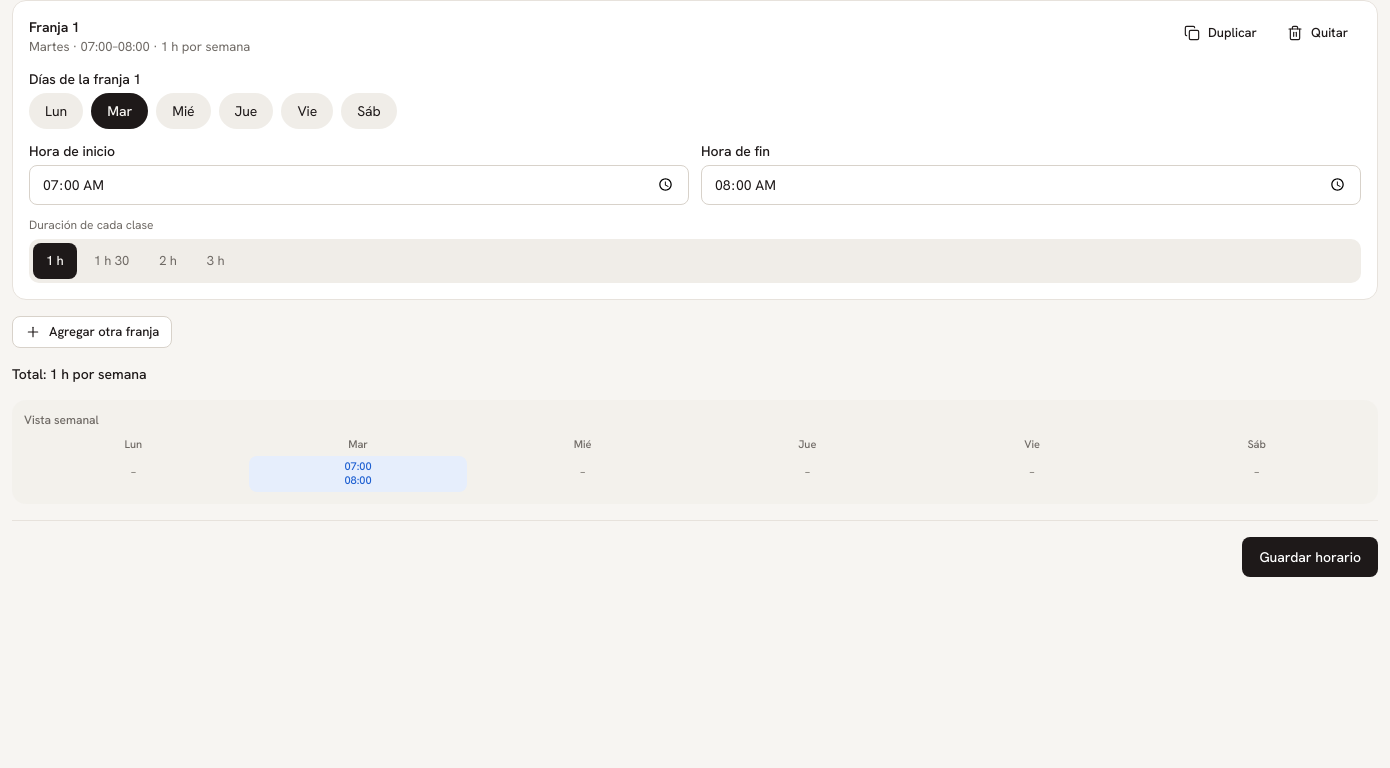
HorarioEditor › envía bloques válidos y avisa el choque del servidor
Click the button "Guardar horario": coordinates (1310, 556) [1242,536,1378,576]
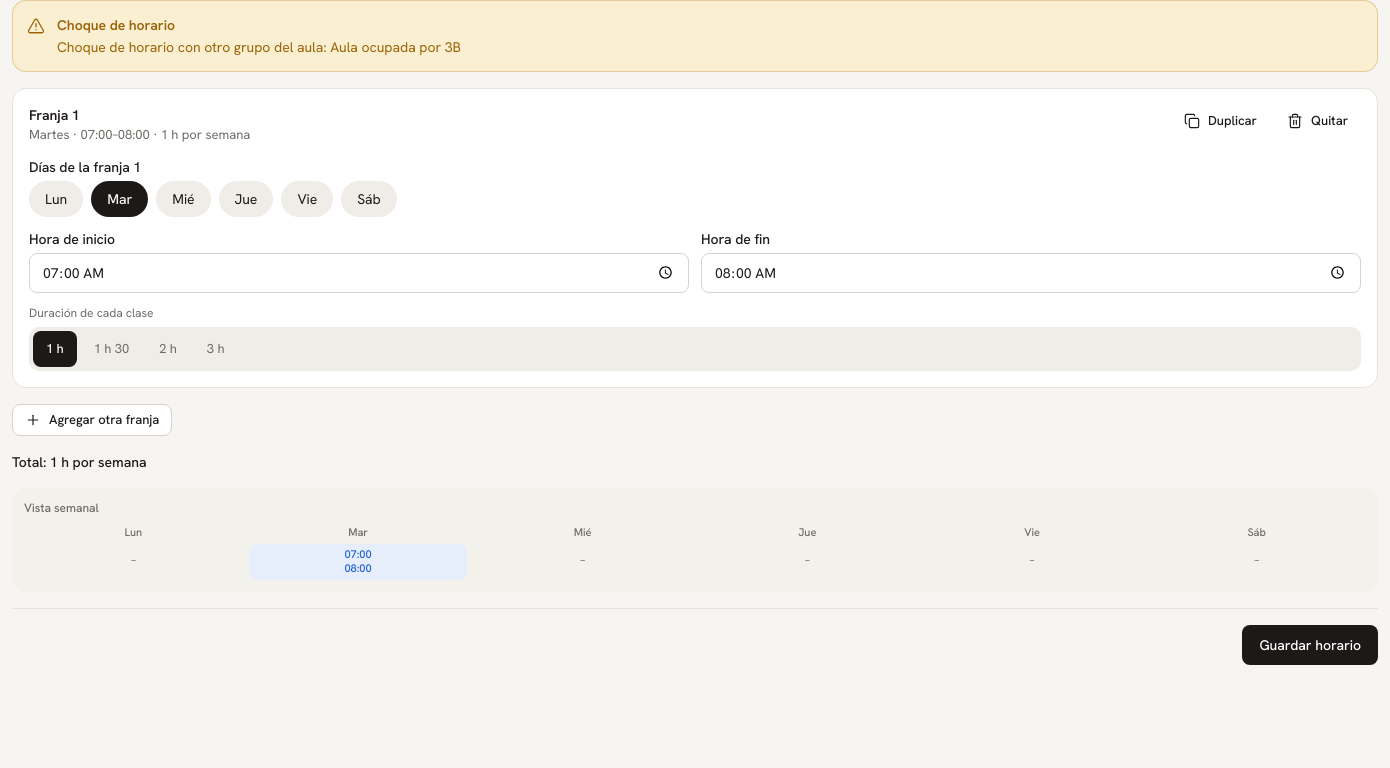
Expected: the text "Aula ocupada por 3B" is shown, [57,38,461,56]
